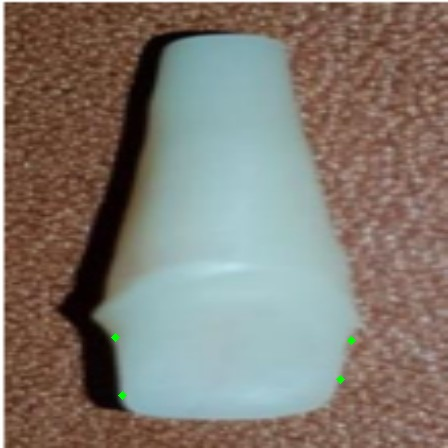coin_1: (115, 337, 135, 357)
coin_2: (122, 395, 142, 415)
coin_3: (351, 340, 371, 360)
coin_4: (340, 379, 360, 399)
